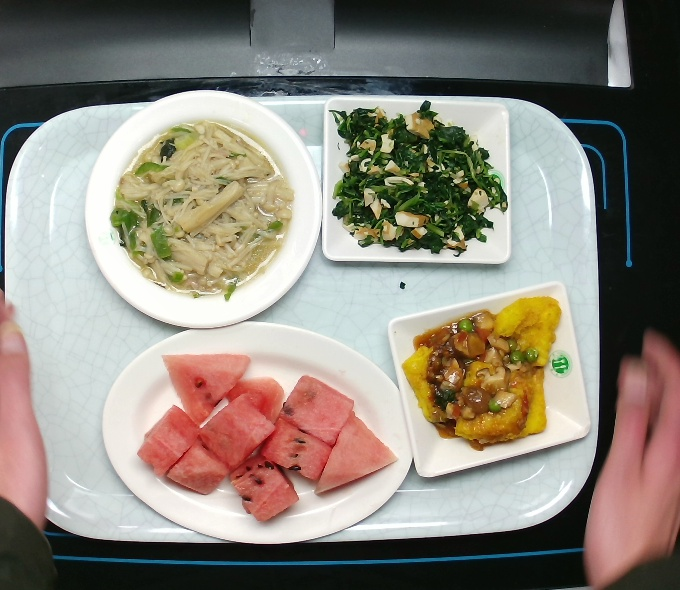wcq-CuiPiDouFu: (398, 291, 566, 454)
wcq-JinZhenGu: (110, 119, 293, 297)
wcq-MaLanTouChaoDouGan: (327, 98, 508, 259)
wcq-XiGua: (131, 346, 400, 529)
